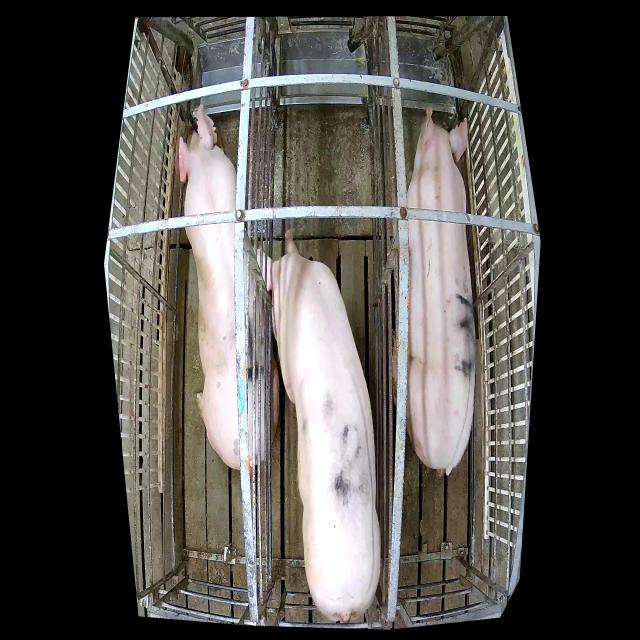pig: (253, 230, 381, 622), (174, 107, 279, 467), (406, 107, 476, 476)
